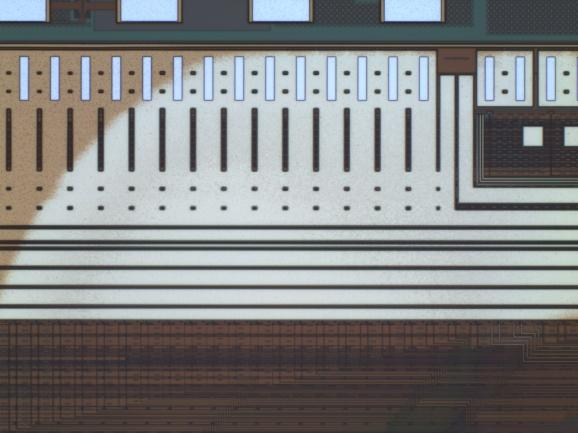COATING BAD: (1, 41, 578, 433)
